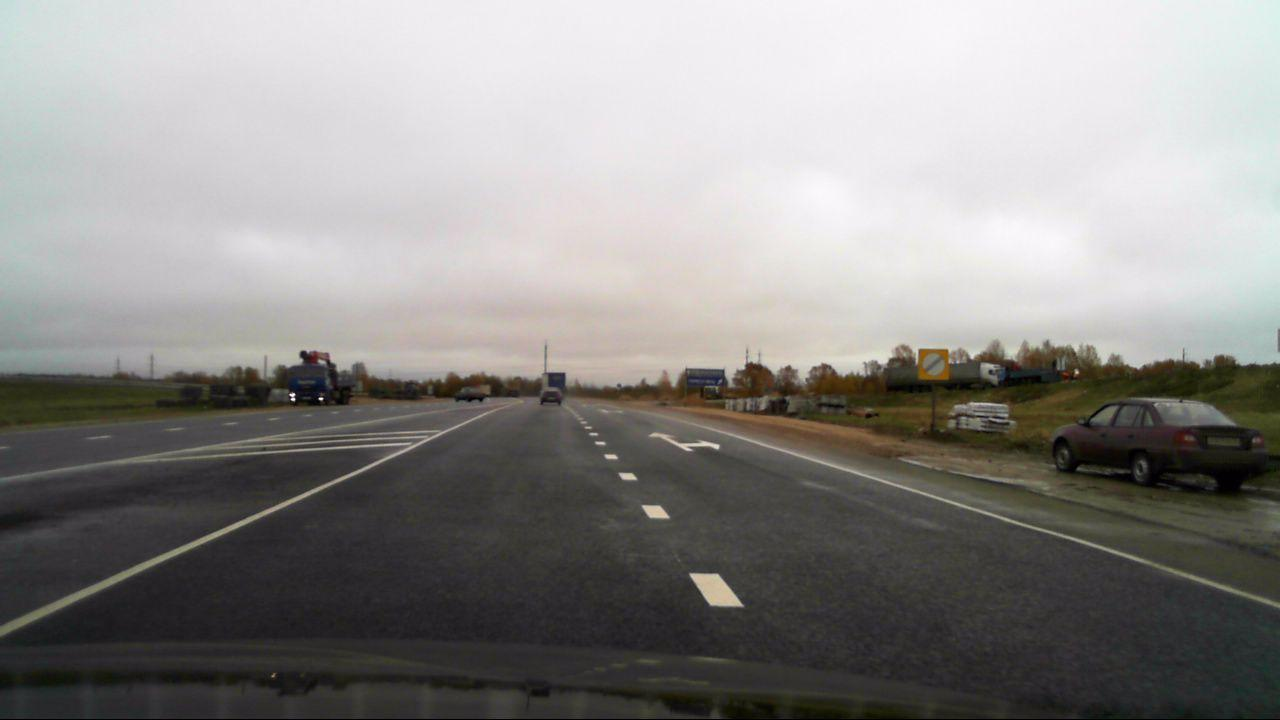3_31: (918, 347, 949, 381)
